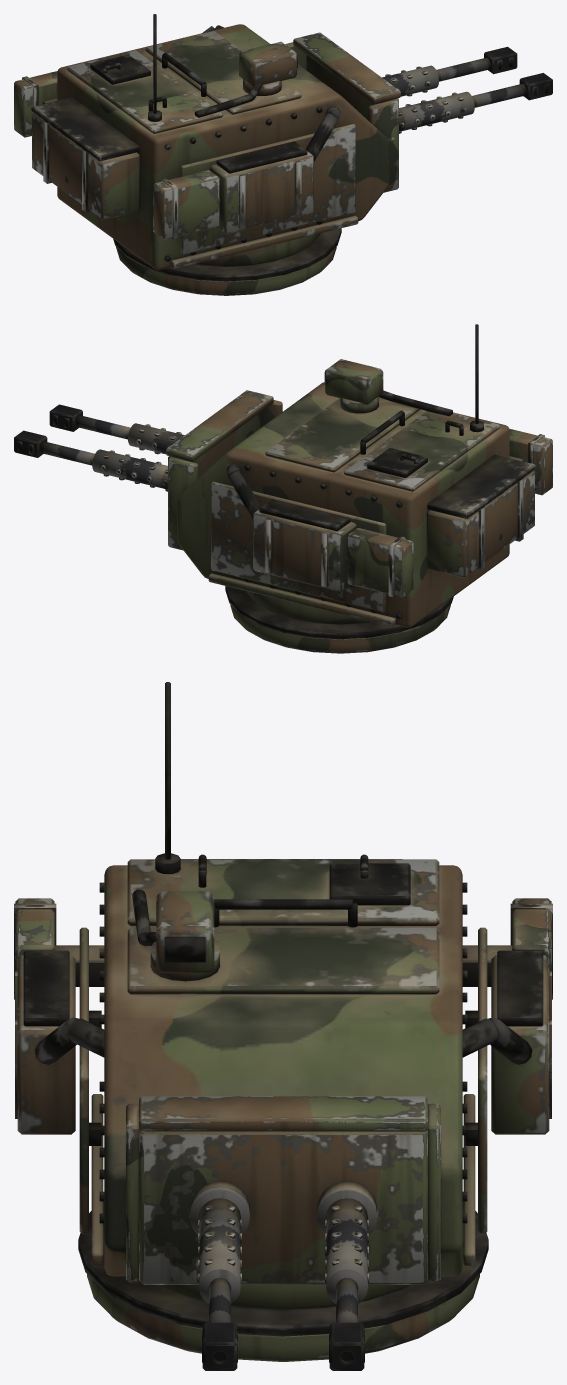
The model's file is turret_grach_t3_forest.glb.
3 views of the same model, one above another, from view 1: azimuth 30°, elevation 25°; view 2: azimuth 150°, elevation 25°; view 3: azimuth 270°, elevation 25° (orthographic). The views are drawn at different scales.
Parts seen in each view (by area): view 1: turret_light_t3, guns, pods; view 2: turret_light_t3, guns, pods; view 3: turret_light_t3, guns, pods.
Boxes of the visible parts, x1=… form: turret_light_t3: x1=31, y1=14, x2=389, y2=295; guns: x1=285, y1=32, x2=552, y2=192; pods: x1=14, y1=71, x2=220, y2=239; turret_light_t3: x1=177, y1=324, x2=535, y2=653; guns: x1=14, y1=390, x2=282, y2=550; pods: x1=346, y1=428, x2=552, y2=597; turret_light_t3: x1=15, y1=682, x2=551, y2=1361; guns: x1=126, y1=1096, x2=440, y2=1370; pods: x1=14, y1=898, x2=552, y2=999.
Bounding box in the file's own units: 1.86 × 1.09 × 1.05.
Materials: 3 (3 with a texture image).
